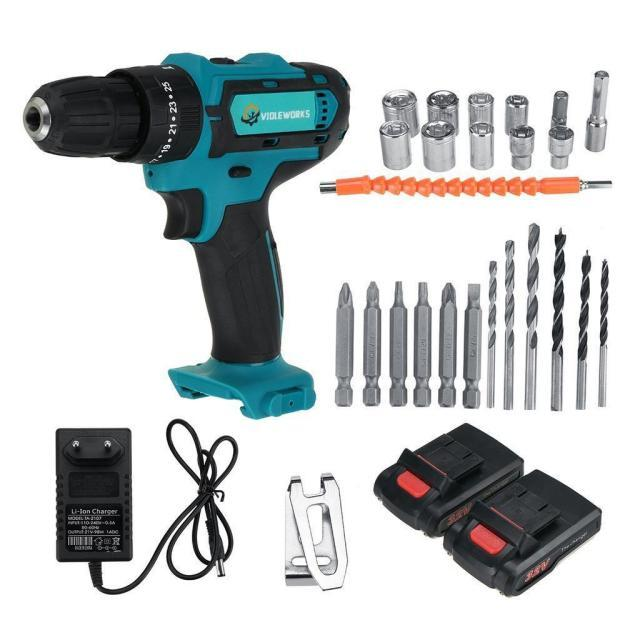drill: (22, 51, 352, 420), (441, 470, 603, 598), (373, 420, 522, 538)
